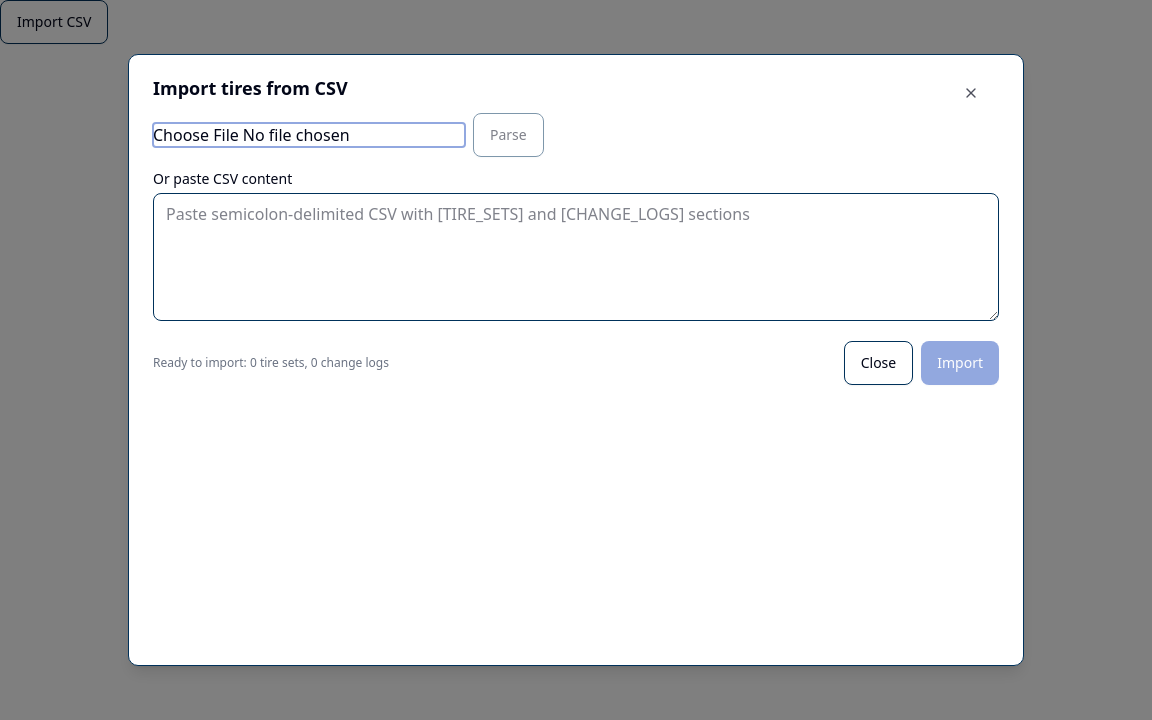
ImportTiresDialog › parses section-based CSV and shows tire sets
The image size is (1152, 720).
Replace the text in the text box with placeholder "semicolon-delimited CSV" with "[TIRE_SETS] Id;Name;Type;Status;TotalKm;PurchaseDate;Notes ts1;Summer Set;SUMMER;STORED;5000;2024-01-01;Good tires [CHANGE_LOGS] Id;TireSetId;Date;OdometerKm;Notes log1;ts1;2024-06-01;10000;Mounted": coordinates (576, 257) x1=153 y1=193 x2=999 y2=321
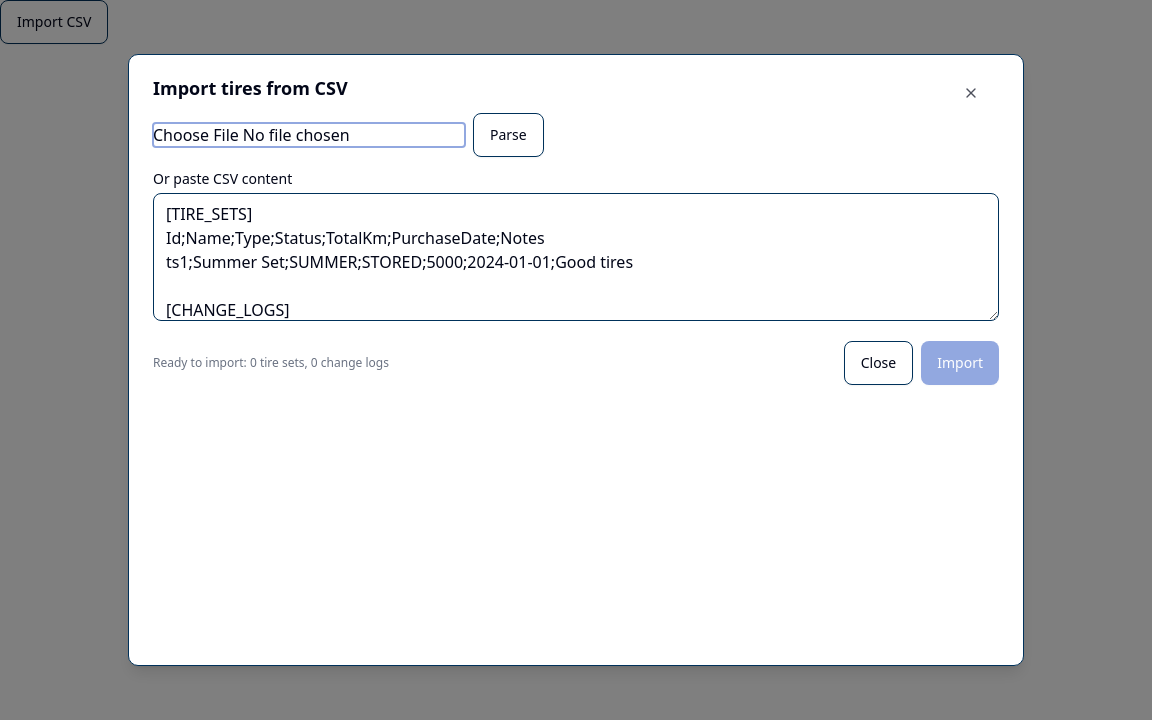
Click the button "Parse": coordinates (508, 135) x1=473 y1=113 x2=544 y2=157
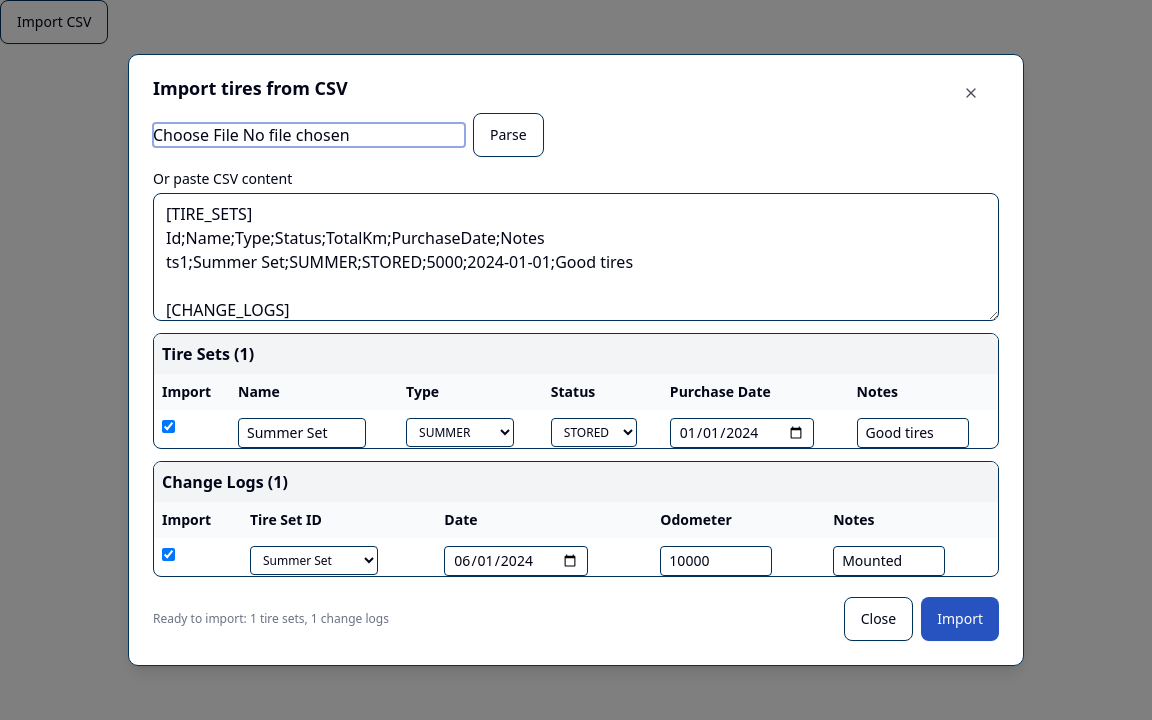
expect the heading "Tire Sets (1)" is shown: met, box x1=154 y1=334 x2=998 y2=374
expect the heading "Change Logs (1)" is shown: met, box x1=154 y1=462 x2=998 y2=502
